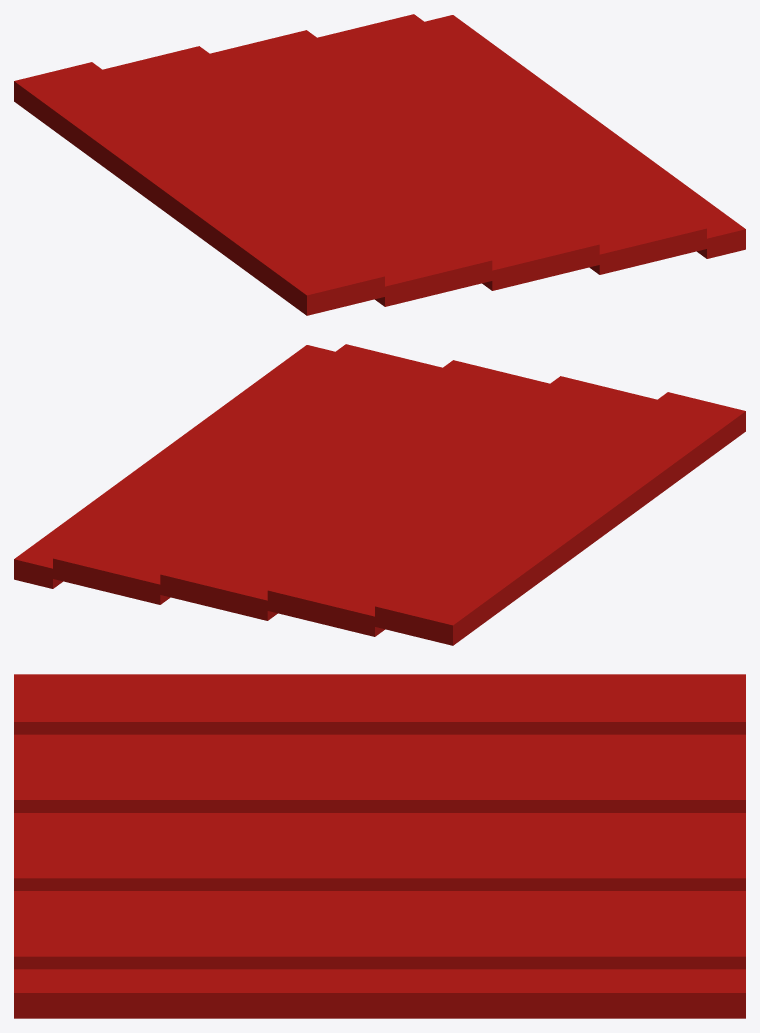
File: convertible_bonnet.glb
3 views of the same model, one above another, from view 1: azimuth 30°, elevation 25°; view 2: azimuth 150°, elevation 25°; view 3: azimuth 270°, elevation 25° (orthographic). The views are drawn at different scales.
Visible parts, largest first — view 1: body:compound; view 2: body:compound; view 3: body:compound.
Part boxes in pixels (left/top/right/bottom): body:compound: left=14, top=14, right=745, bottom=315; body:compound: left=14, top=344, right=745, bottom=645; body:compound: left=14, top=674, right=745, bottom=1018.
Bounding box in the file's own units: 1.41 × 0.1875 × 1.62.
